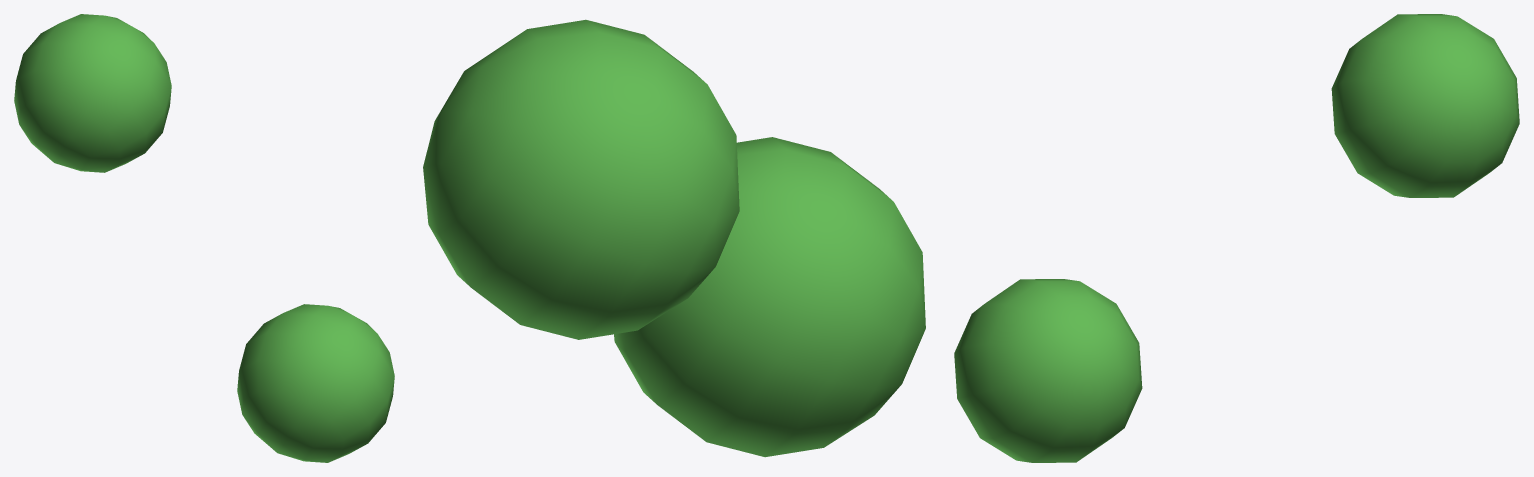
Rendered from linfatico-infra-auricular-nodes-r.glb.
3 renders of one model, left to right at view 1: azimuth 30°, elevation 25°; view 2: azimuth 150°, elevation 25°; view 3: azimuth 270°, elevation 25°, orthographic. The views are drawn at different scales.
Visible parts, largest first — view 1: Infra-auricular nodes.r; view 2: Infra-auricular nodes.r; view 3: Infra-auricular nodes.r.
Boxes of the visible parts, left/top/right/bottom form: Infra-auricular nodes.r: left=14, top=14, right=394, bottom=462; Infra-auricular nodes.r: left=423, top=19, right=925, bottom=457; Infra-auricular nodes.r: left=954, top=14, right=1519, bottom=462.
Size of the model in its own units: 0.00381 by 0.00598 by 0.00767.
